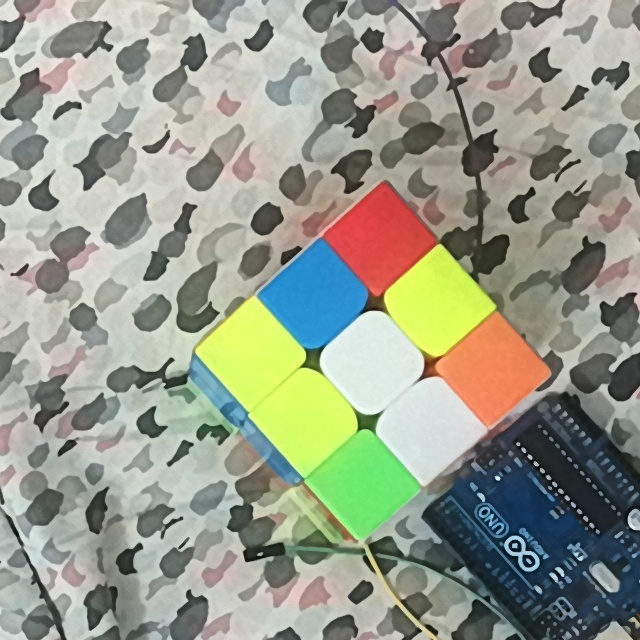tile: (464, 339, 521, 401), (334, 455, 391, 513), (279, 390, 335, 449), (408, 274, 466, 330), (352, 212, 408, 269), (288, 270, 342, 328), (225, 323, 276, 384), (402, 400, 456, 454), (346, 337, 400, 391)
